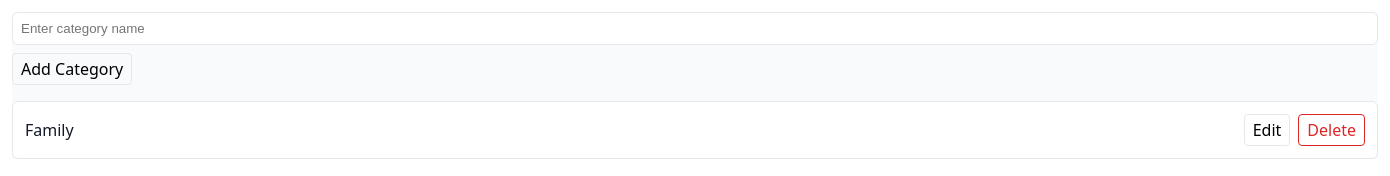
Test case: CategoryManager › cancels editing when cancel button is clicked
The width and height of the screenshot is (1390, 176).
Note: Start editing
What coordinates should you click on to do the following:
click the button "Edit"
I would click on:
 (1267, 130)
Its box is [1244, 114, 1290, 146].
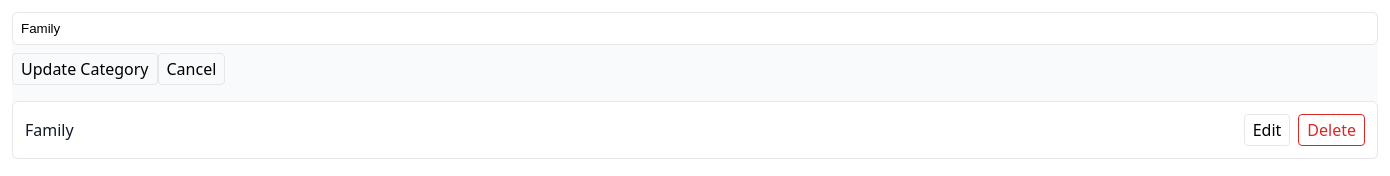
Check: the button "Update Category" is shown, box [12, 53, 158, 85]
Note: Cancel editing
What coordinates should you click on to do the following:
click the button "Cancel"
I would click on:
 (191, 69)
Its box is [158, 53, 225, 85].
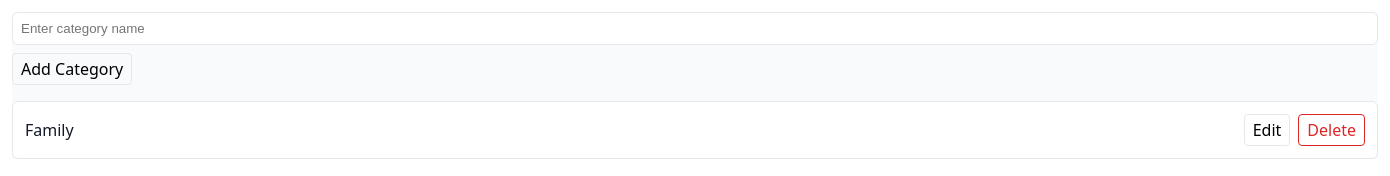
Check: the button "Add Category" is shown, box [12, 53, 132, 85]
